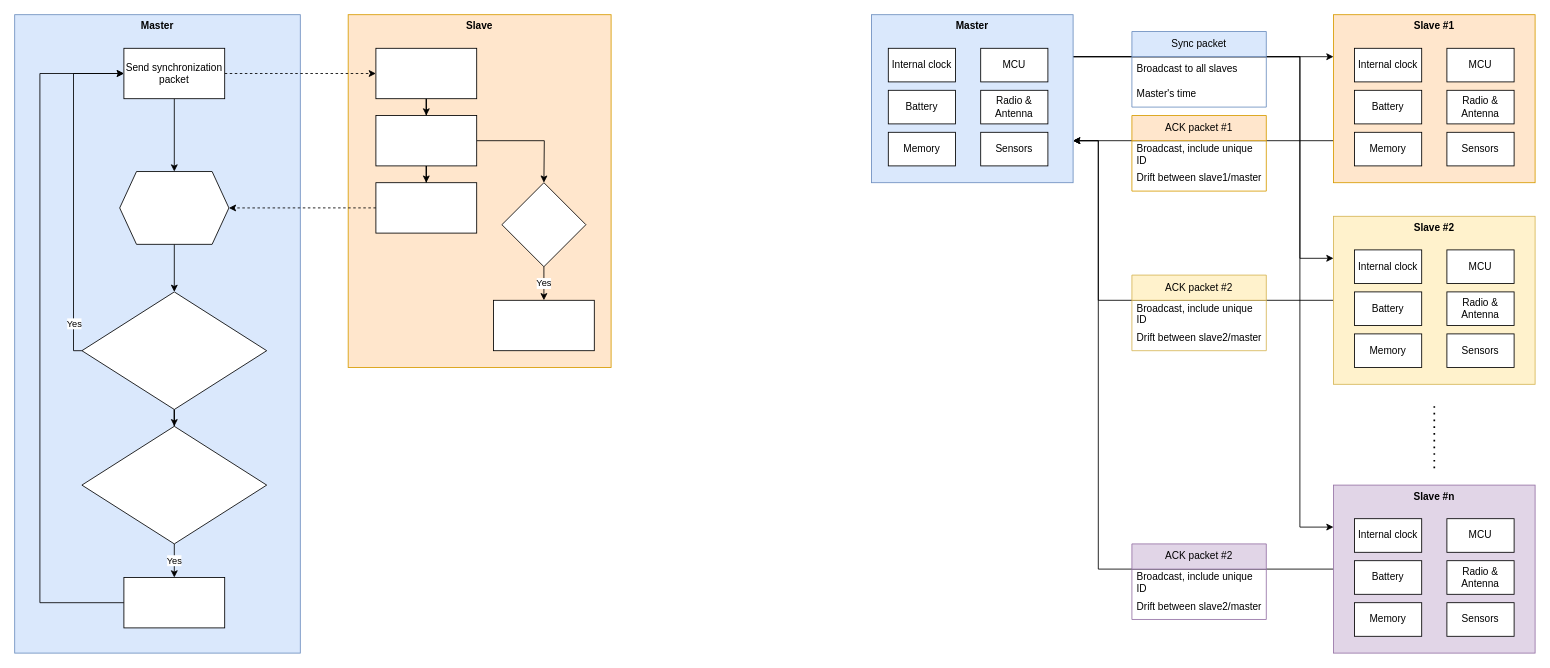
Some shapes in this 1550 by 668 pixel diagram are drawn without their labels. Here are the shapes that lost their labels. From the top down, the centre of each, then its label:
At point 426,73: "Receive synchronization packet".
At point 426,140: "Calculate drift between master and slave".
At point 174,207: "Wait for ACK from all devices within timeout".
At point 426,207: "Send ACK with device ID and drift time".
At point 543,224: "Time compensation request?".
At point 543,325: "Compensate and update timestamp".
At point 174,350: "Some ACKs were missing or next sync period?".
At point 174,484: "Synchronization frequency need to be updated?".
At point 174,602: "Update synchronization frequency".
